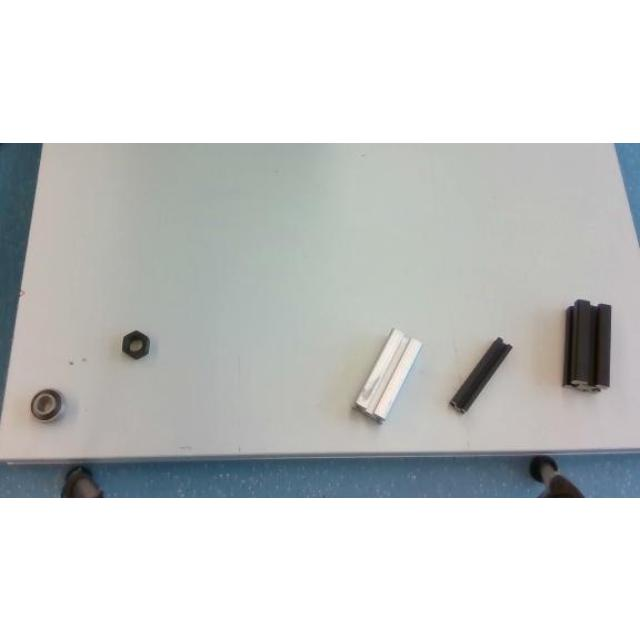Bearing2: (31, 388, 64, 420)
F20_20_B: (449, 336, 511, 412)
M20: (122, 329, 150, 358)
S40_40_B: (564, 298, 610, 389)
S40_40_G: (353, 328, 423, 420)
